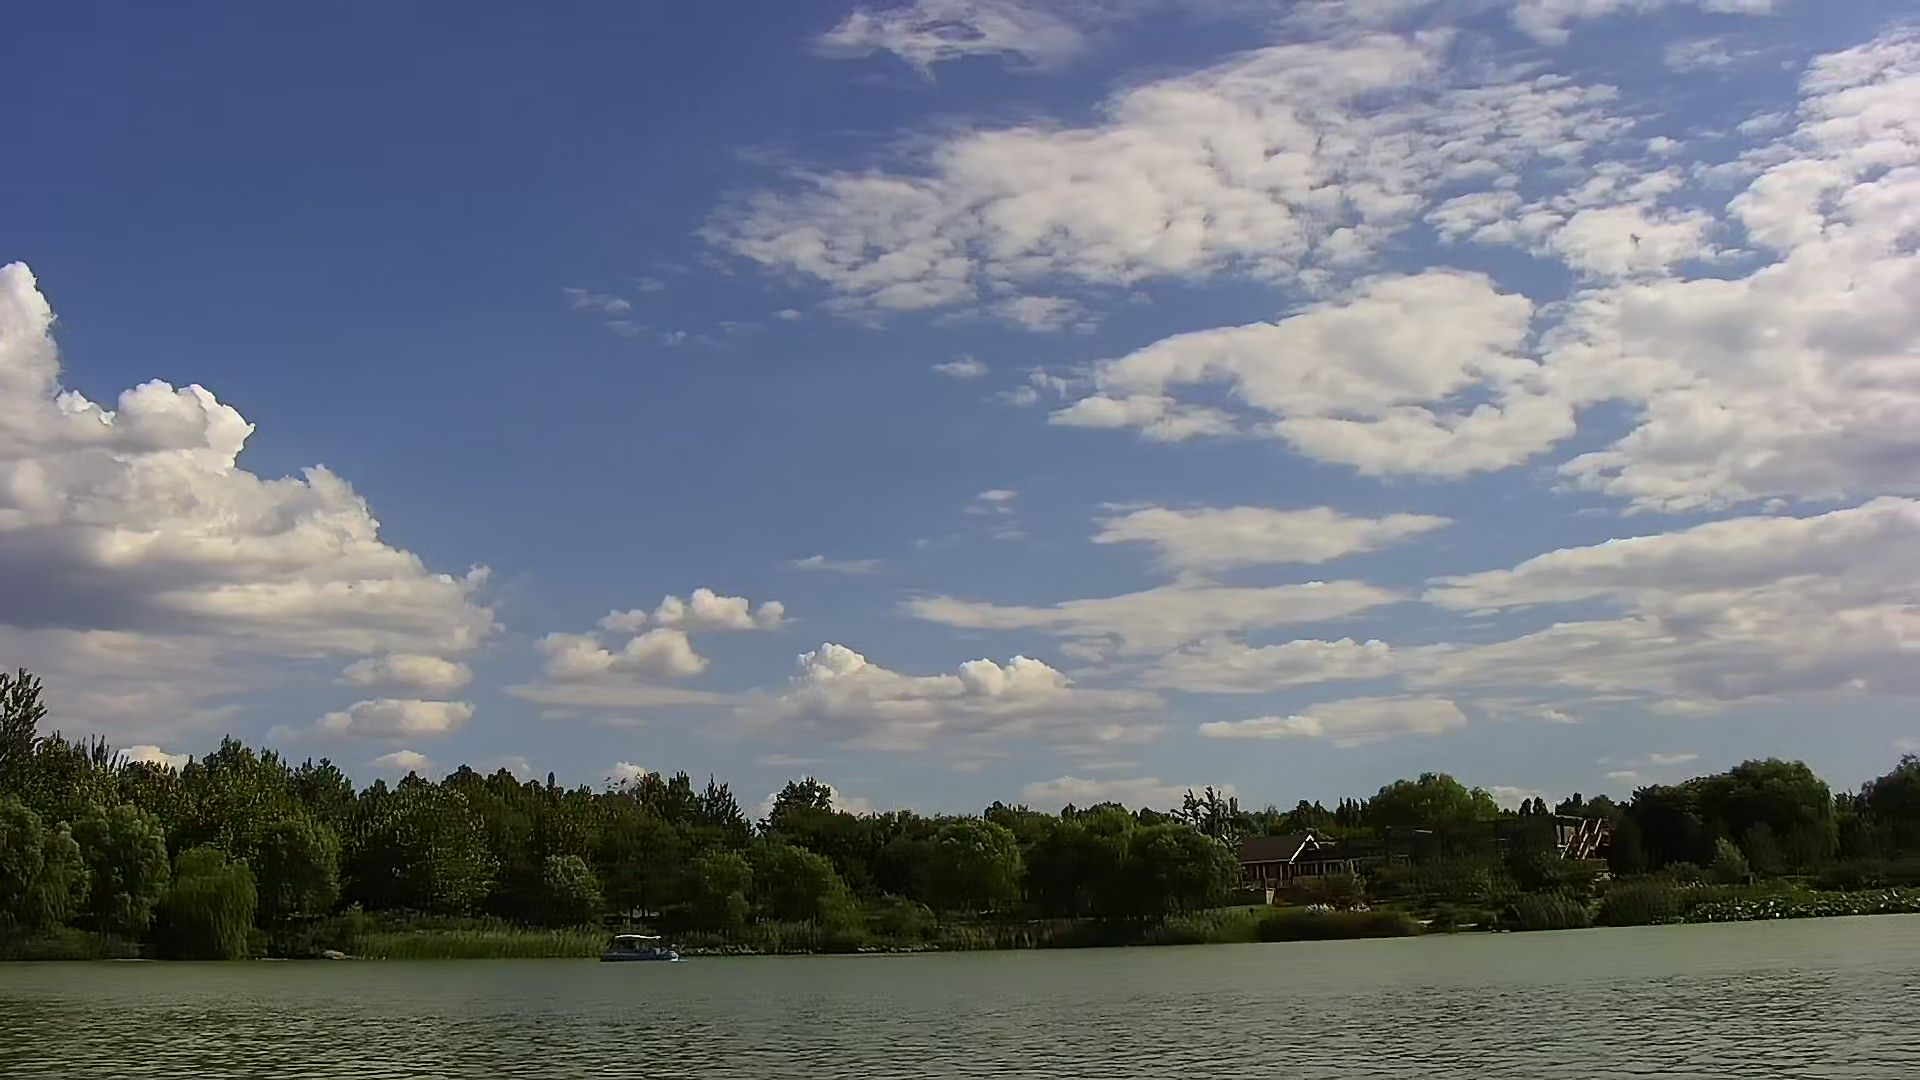boat: (597, 927, 680, 963)
